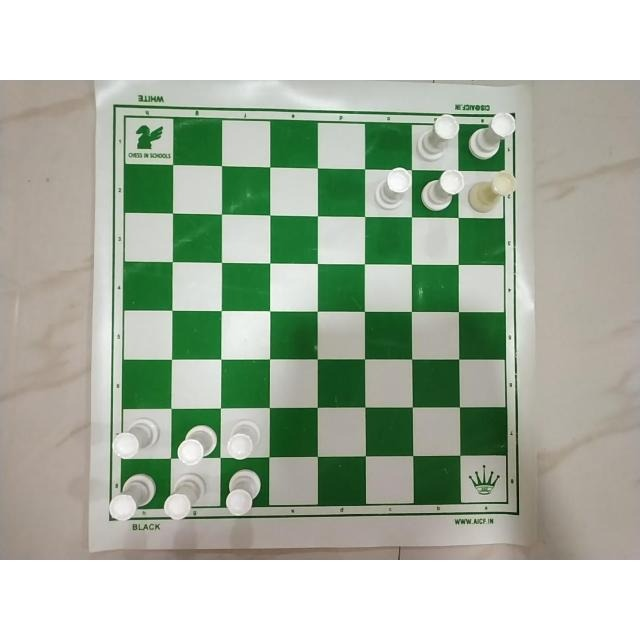white-rook: (109, 470, 158, 522), (466, 112, 516, 162), (110, 417, 164, 459), (415, 113, 459, 163), (162, 472, 206, 522), (222, 467, 264, 519), (469, 170, 517, 214), (417, 168, 463, 212), (172, 423, 220, 465), (373, 166, 412, 214), (225, 416, 265, 462)
